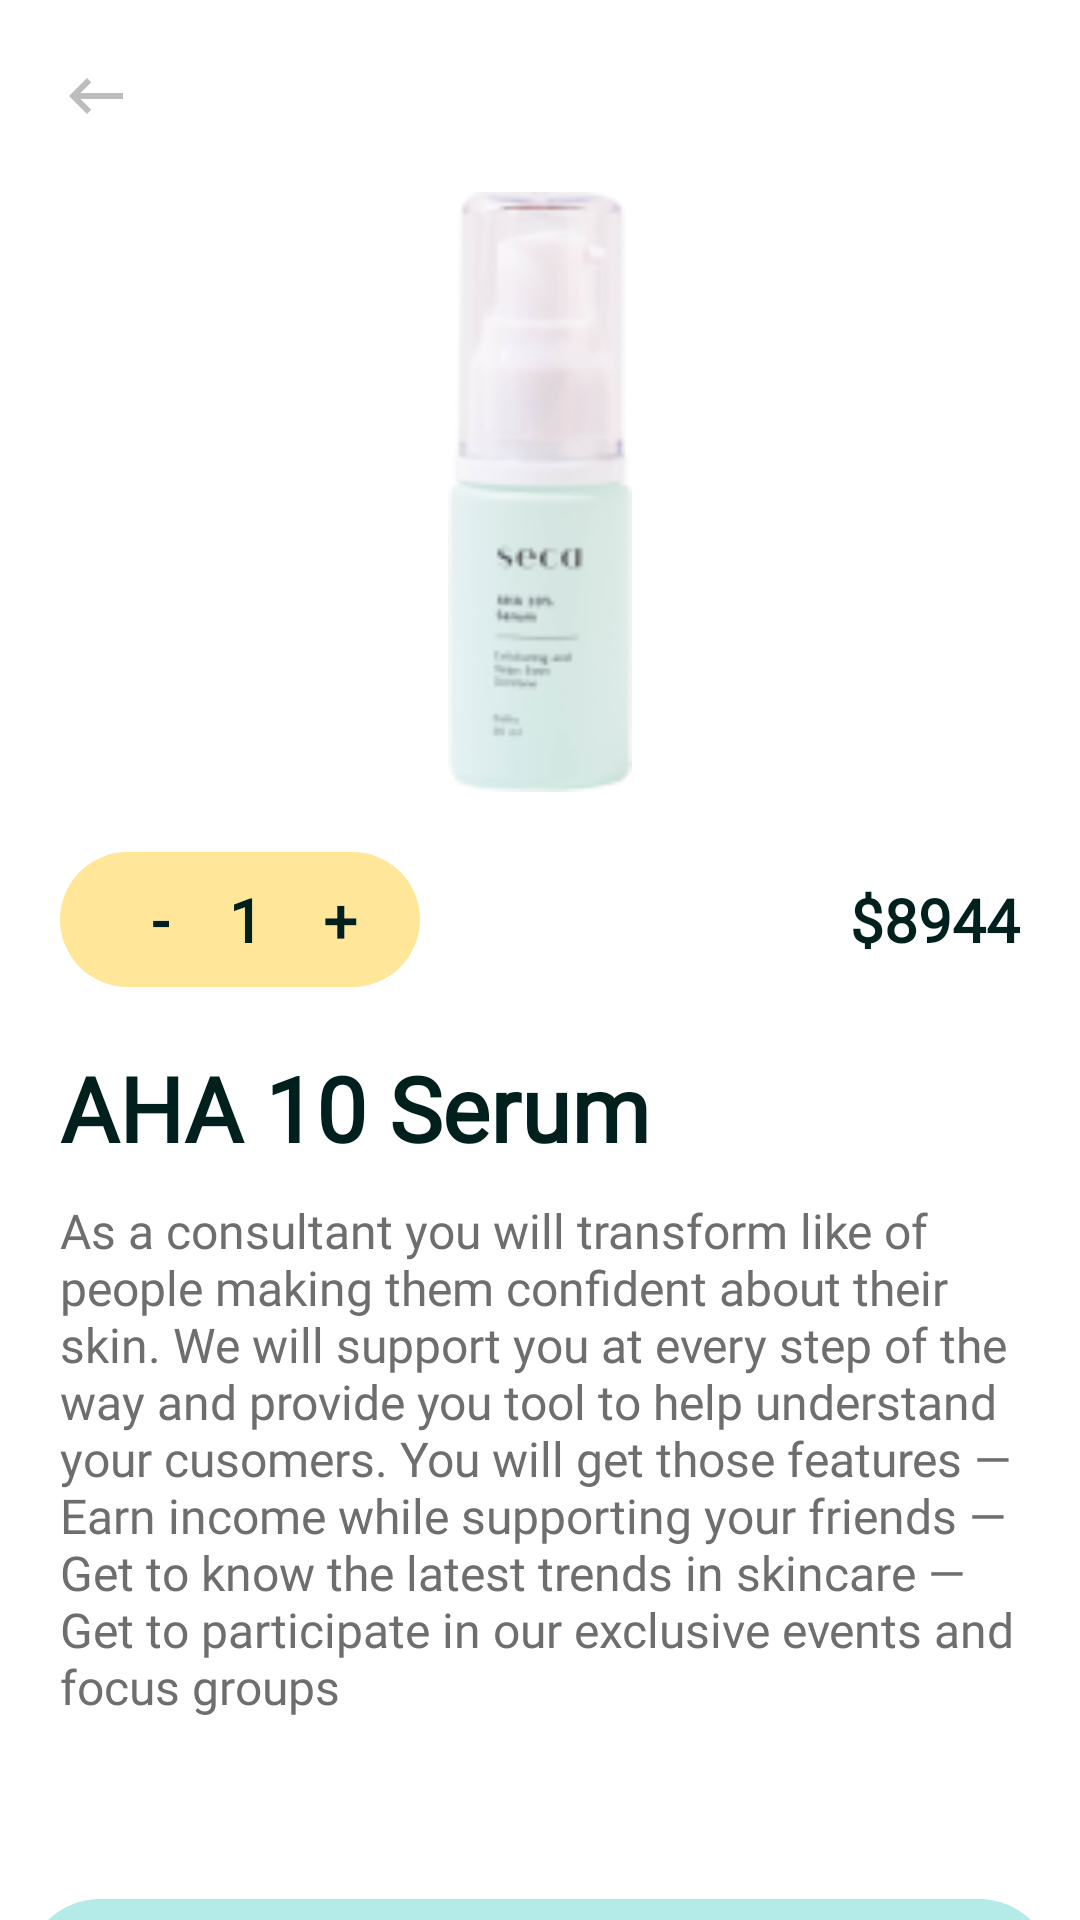

Named icons in this screenshot (1080 × 1920) and their bounding boxes, region(x1, y1, x2, y2):
back: region(69, 78, 123, 114)
